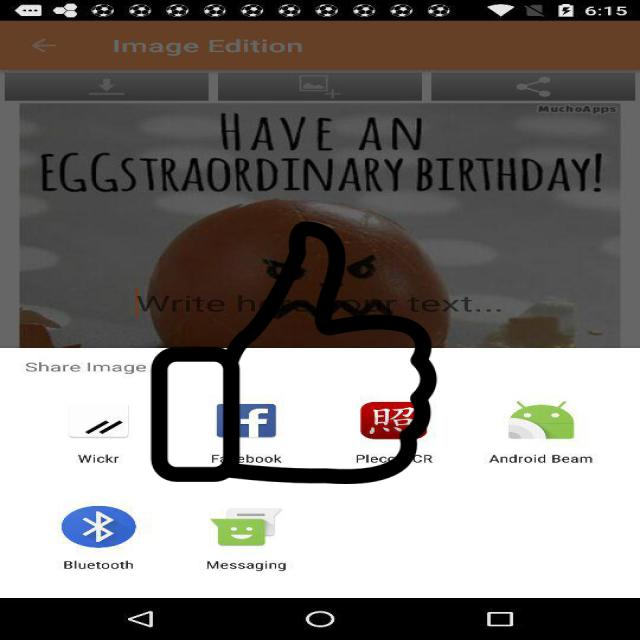privacy zuckering: (147, 221, 441, 484)
